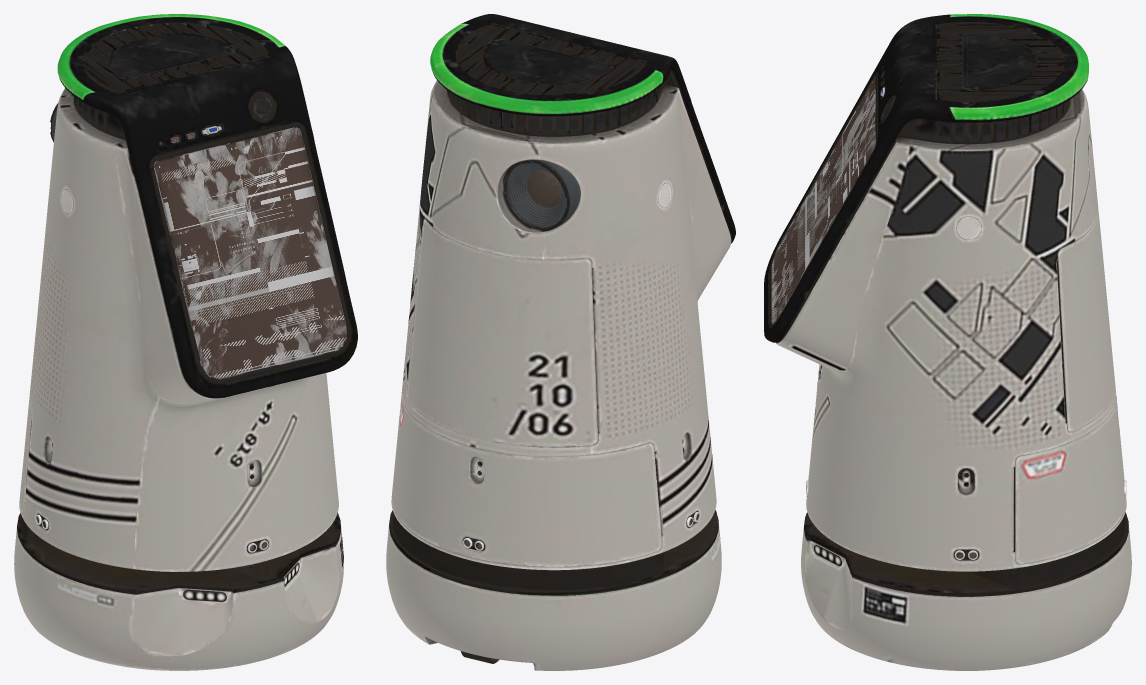
The model's file is robotGuide-opt.glb.
3 renders of one model, left to right at view 1: azimuth 30°, elevation 25°; view 2: azimuth 150°, elevation 25°; view 3: azimuth 270°, elevation 25°, orthographic.
Visible parts, largest first — view 1: line3-hall-robot; view 2: line3-hall-robot; view 3: line3-hall-robot.
Part boxes in pixels (x1=…): line3-hall-robot: x1=14, y1=14, x2=357, y2=670; line3-hall-robot: x1=386, y1=14, x2=735, y2=670; line3-hall-robot: x1=764, y1=14, x2=1131, y2=670.
Size of the model in its own units: 1.03 by 1.88 by 1.14.
Materials: 2 (2 with a texture image).
